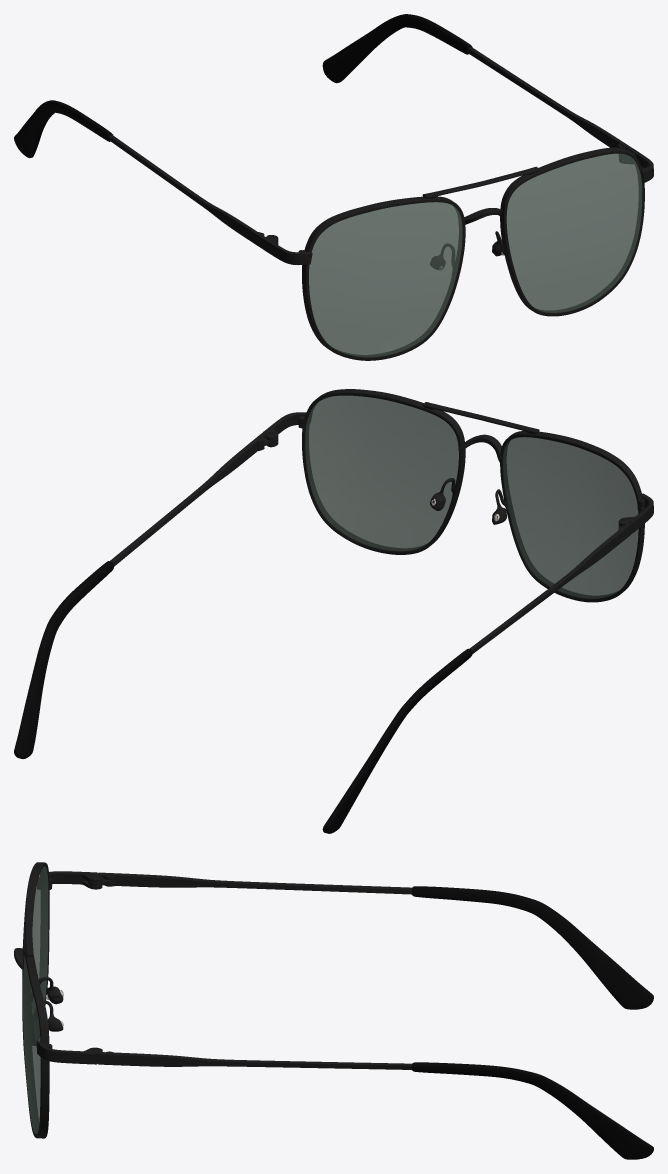
3 renders of one model, top to bottom at view 1: azimuth 30°, elevation 25°; view 2: azimuth 150°, elevation 25°; view 3: azimuth 270°, elevation 25°, orthographic.
Visible parts, largest first — view 1: Assets; view 2: Assets; view 3: Assets.
Boxes of the visible parts, <box> form: Assets: <box>14,14,653,360</box>; Assets: <box>14,389,653,833</box>; Assets: <box>14,862,653,1159</box>.
Bounding box in the file's own units: 1.98 × 0.8032 × 2.95.
5 materials, 2 textured.
